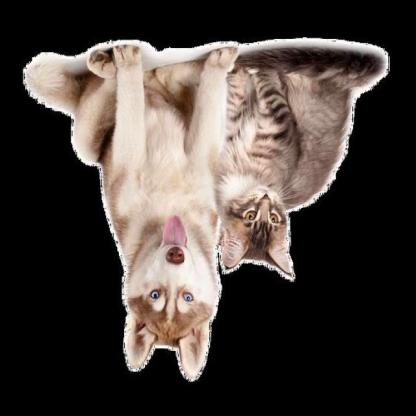cat: (212, 40, 388, 283)
dog: (24, 34, 222, 388)
